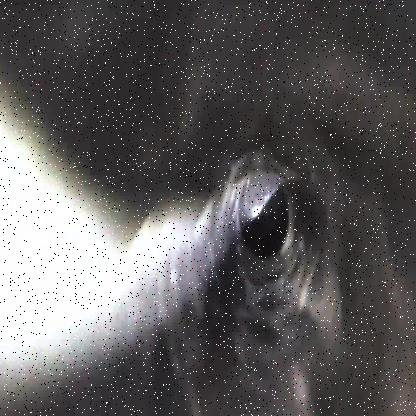Crack: (186, 138, 336, 344)
